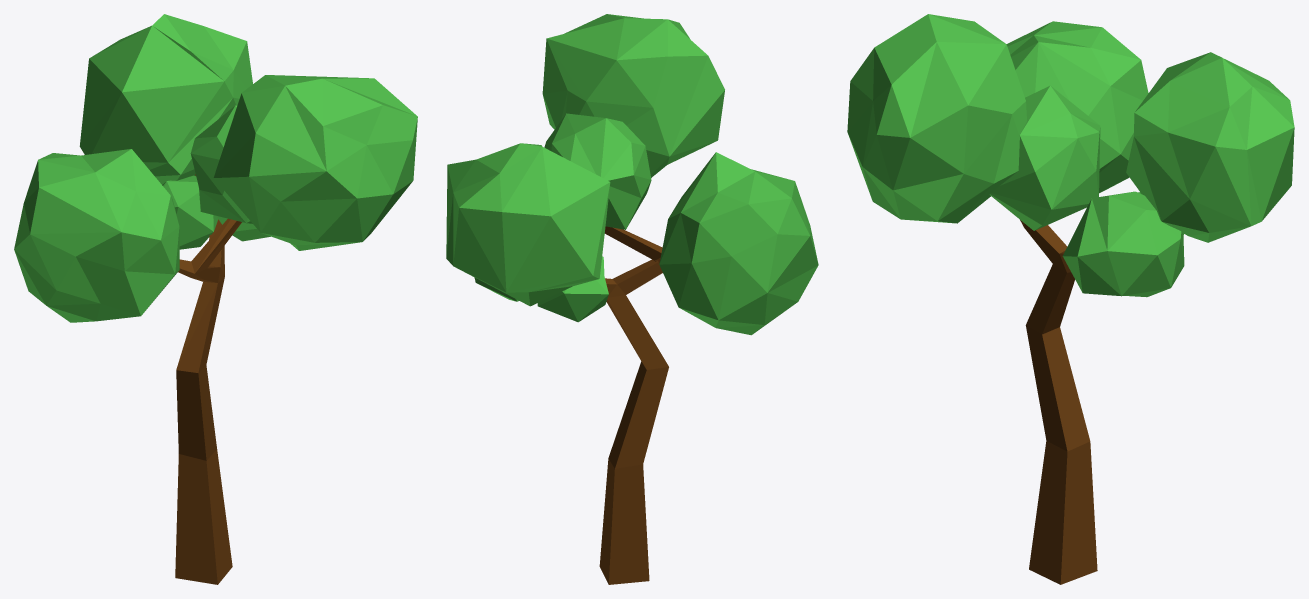
File: Tree2.glb
3 renders of one model, left to right at view 1: azimuth 30°, elevation 25°; view 2: azimuth 150°, elevation 25°; view 3: azimuth 270°, elevation 25°, orthographic. The views are drawn at different scales.
Visible parts, largest first — view 1: дерева.001; view 2: дерева.001; view 3: дерева.001.
Boxes of the visible parts, x1,y1,x2,y2 form: дерева.001: (14, 14, 417, 584); дерева.001: (446, 14, 818, 584); дерева.001: (847, 14, 1294, 584).
Bounding box in the file's own units: 3.36 × 5.21 × 3.73.
